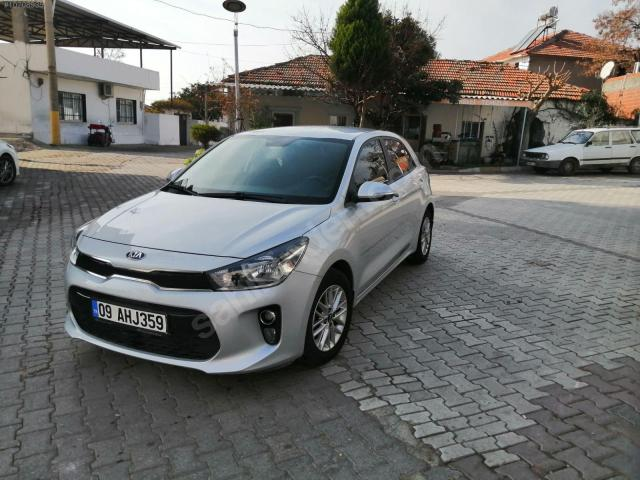plaka: (92, 300, 167, 333)
